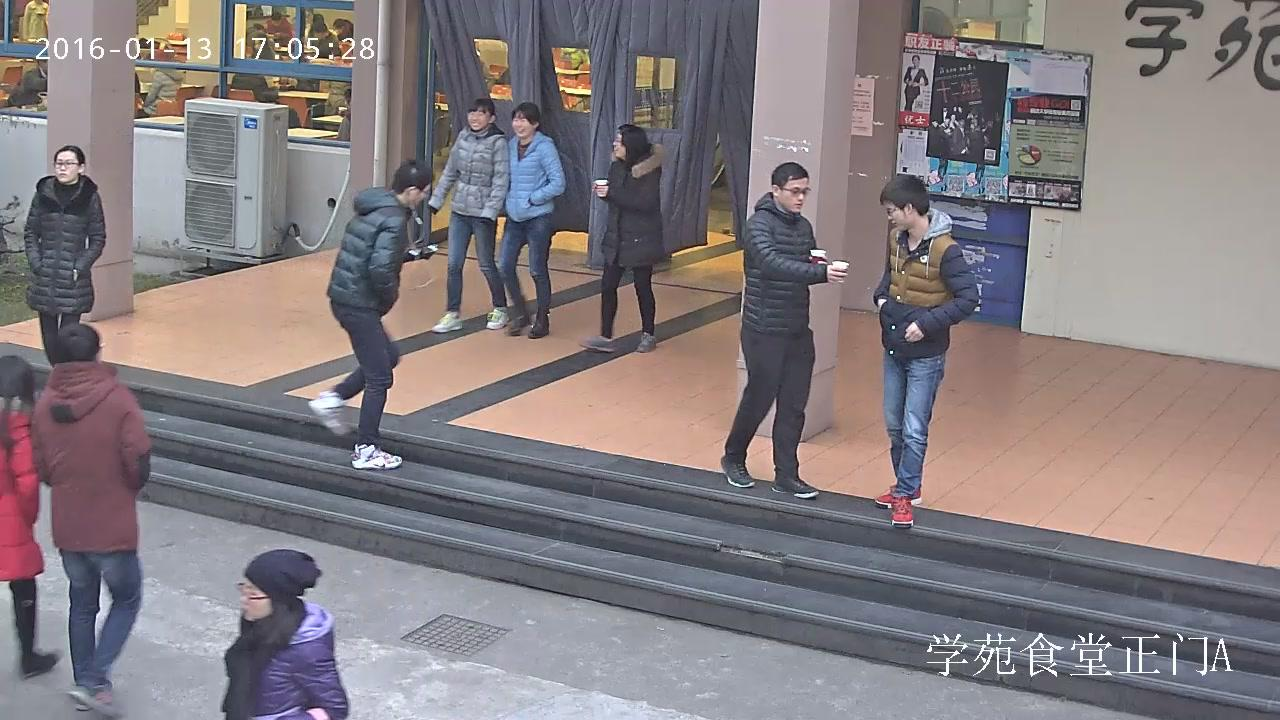person: (31, 322, 154, 720), (718, 161, 848, 499), (305, 158, 436, 471), (871, 174, 982, 528), (217, 549, 350, 720), (426, 99, 512, 334), (578, 124, 665, 353), (0, 355, 60, 679), (24, 145, 107, 364), (494, 102, 565, 338), (136, 66, 185, 118), (6, 60, 48, 106), (902, 54, 929, 110), (21, 0, 49, 43), (262, 11, 292, 43)
